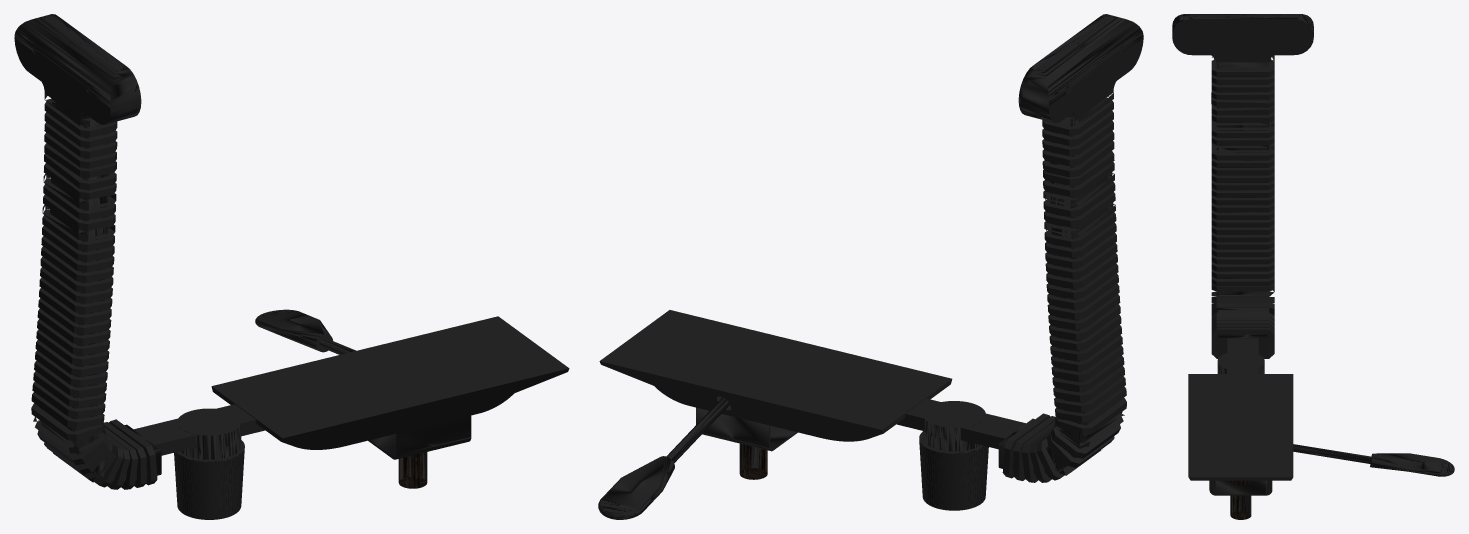
The model's file is spine.obj.
3 views of the same model, side by side, from view 1: azimuth 30°, elevation 25°; view 2: azimuth 150°, elevation 25°; view 3: azimuth 270°, elevation 25° (orthographic). The views are drawn at different scales.
Visible parts, largest first — view 1: spine_mesh47_mesh47-geometry; view 2: spine_mesh47_mesh47-geometry; view 3: spine_mesh47_mesh47-geometry.
Boxes of the visible parts, x1=… form: spine_mesh47_mesh47-geometry: x1=14, y1=14, x2=569, y2=519; spine_mesh47_mesh47-geometry: x1=598, y1=14, x2=1143, y2=519; spine_mesh47_mesh47-geometry: x1=1172, y1=14, x2=1454, y2=519.
Size of the model in its own units: 0.3251 by 0.3331 by 0.2235.
